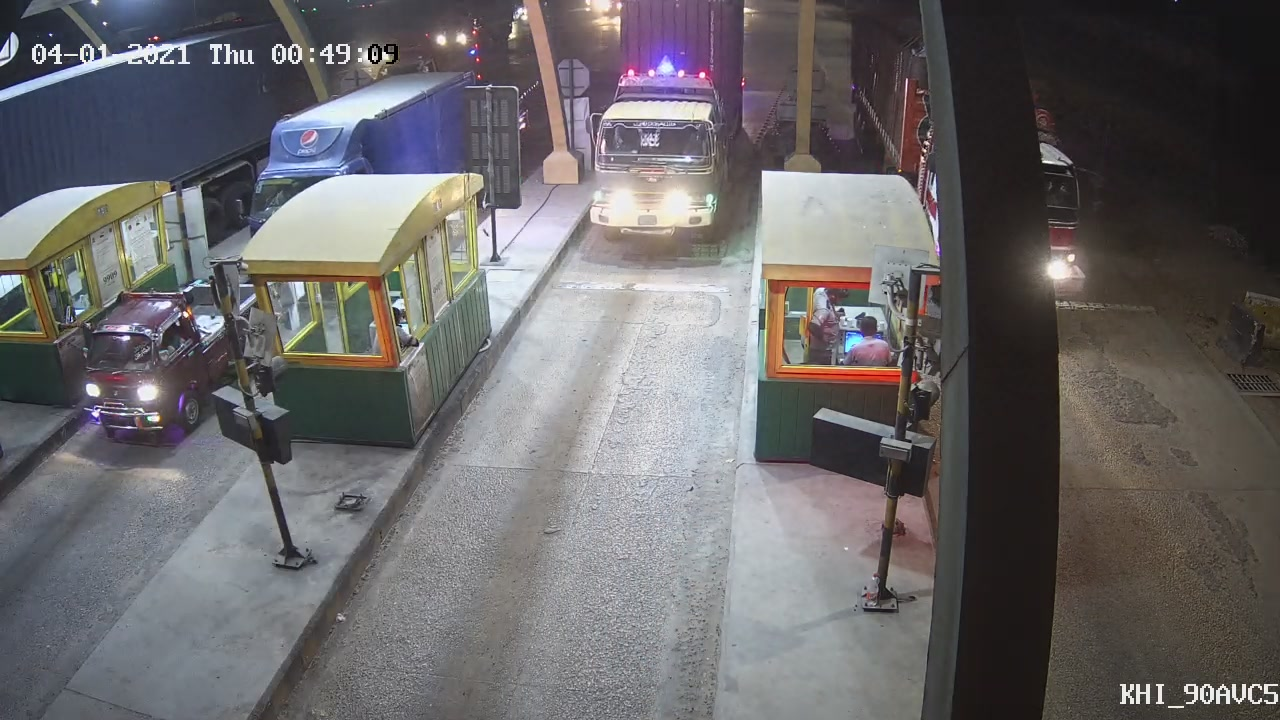F6: (574, 1, 755, 249)
